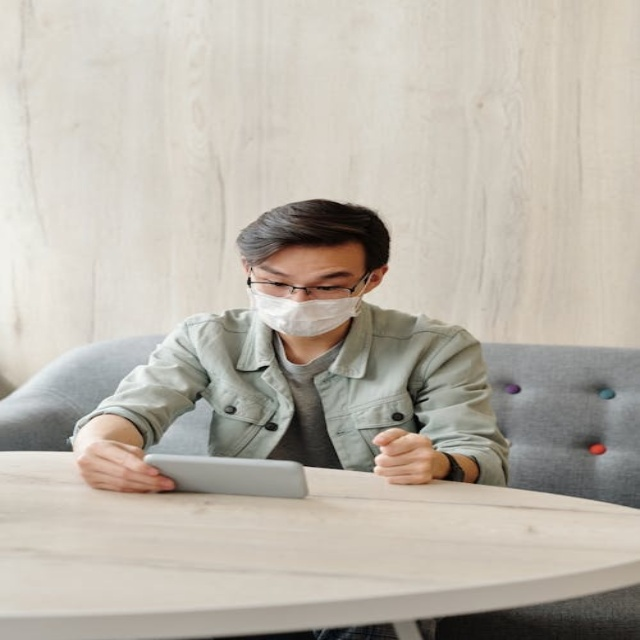Gafas: (247, 265, 372, 298)
Mascara: (249, 271, 368, 336)
Sin_guantes: (75, 438, 170, 494), (369, 427, 439, 485)
